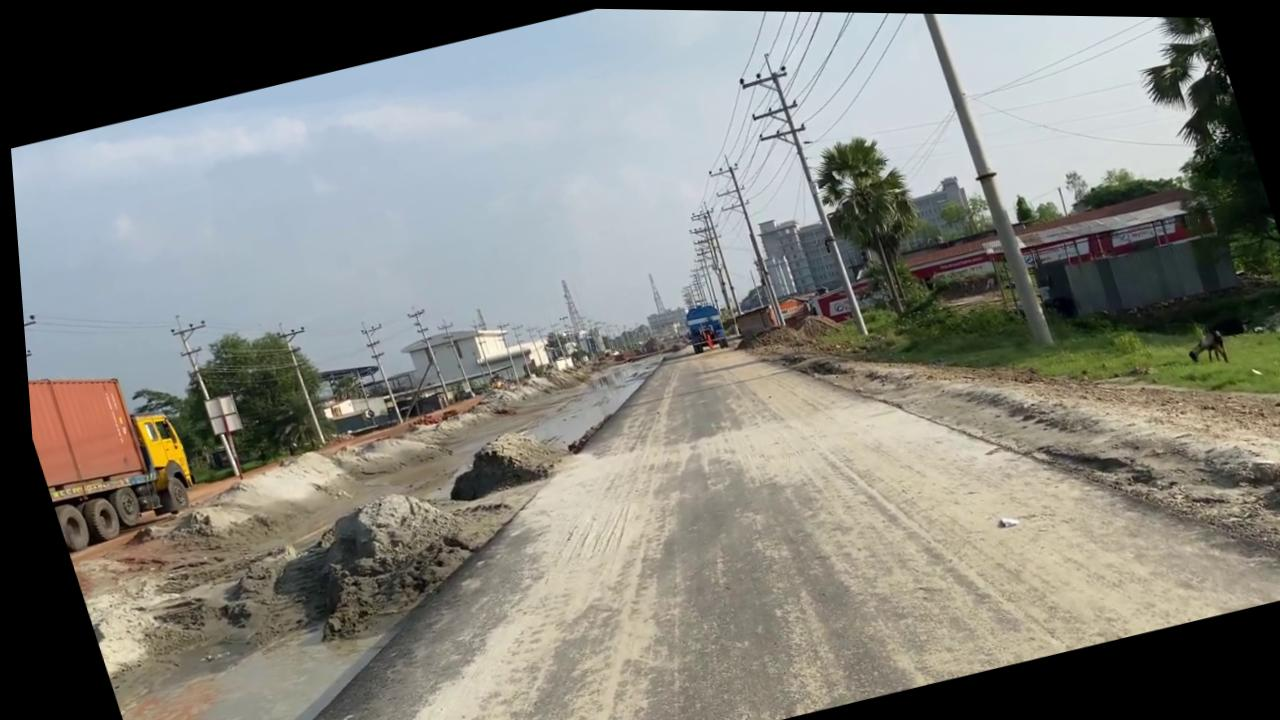Animal: (1175, 320, 1225, 366)
Muddy road: (35, 338, 772, 720)
Pole: (900, 10, 1051, 348), (731, 45, 868, 344), (701, 149, 785, 330)
Rickshaw: (593, 234, 1231, 720)
Traffic-sign: (1107, 13, 1280, 282), (798, 122, 945, 324)
Tree: (20, 345, 201, 554), (673, 298, 725, 353)
